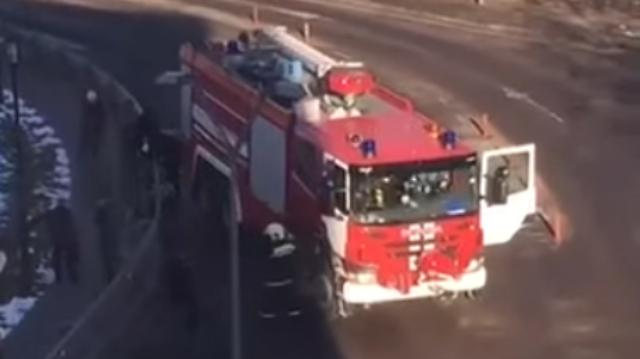fire fighting vehicle: (174, 20, 539, 310)
